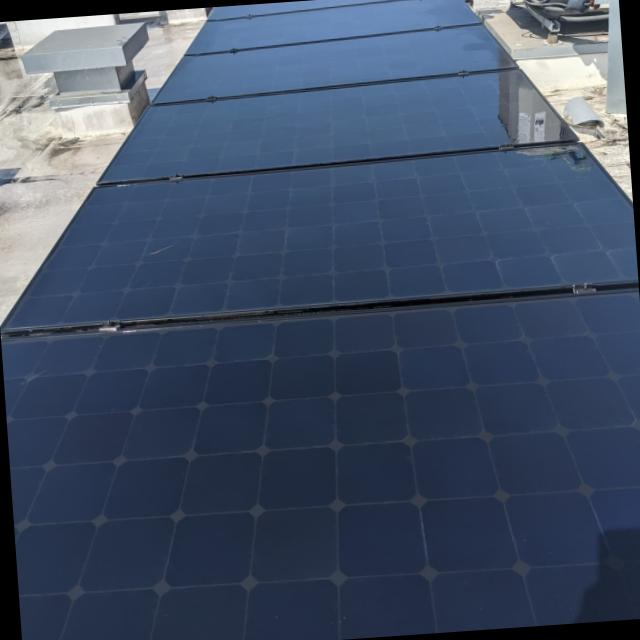no faulty: (1, 0, 640, 640)
